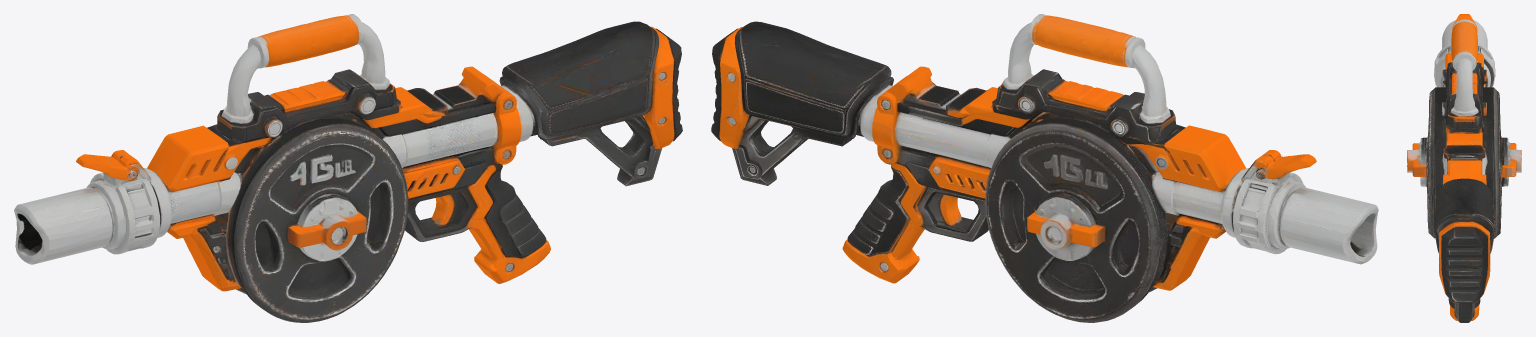
Rendered from weapon-deadlift-v1.glb.
3 views of the same model, side by side, from view 1: azimuth 30°, elevation 25°; view 2: azimuth 150°, elevation 25°; view 3: azimuth 270°, elevation 25° (orthographic). The views are drawn at different scales.
Visible parts, largest first — view 1: Mesh_0; view 2: Mesh_0; view 3: Mesh_0.
Part boxes in pixels (x1,y1,x2,y2): Mesh_0: (14,14,682,322); Mesh_0: (711,14,1378,322); Mesh_0: (1407,14,1521,322).
Bounding box in the file's own units: 1.9 × 0.8284 × 0.4051.
1 material, 1 textured.
